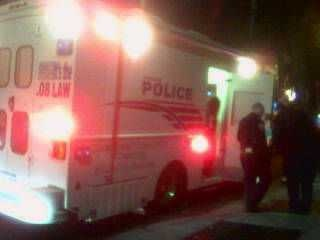Police Van: (0, 0, 279, 221)
